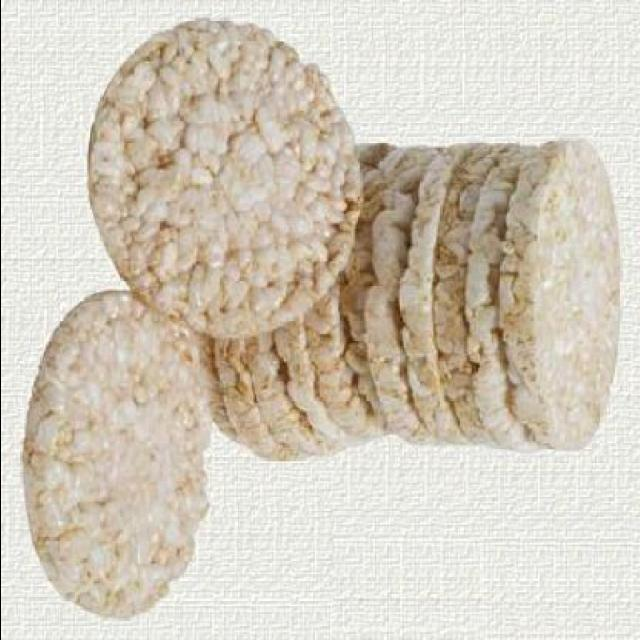Gallette di riso packaged: (84, 15, 352, 334), (26, 292, 206, 628), (506, 126, 624, 460)
